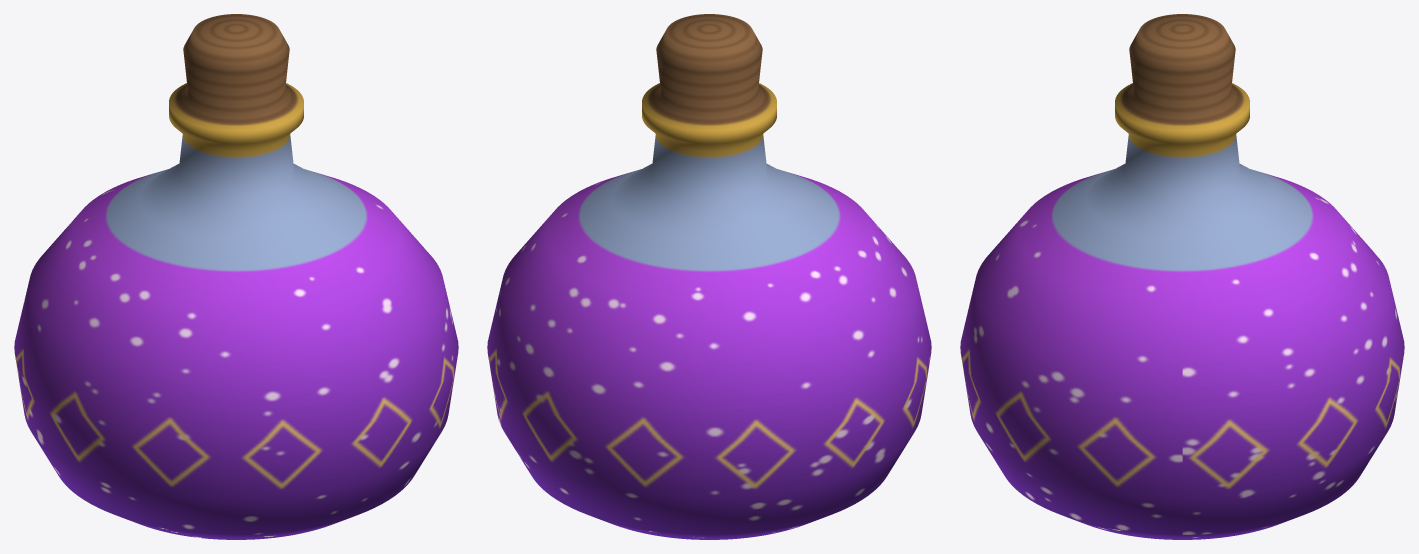
File: potion-bottle.glb
3 renders of one model, left to right at view 1: azimuth 30°, elevation 25°; view 2: azimuth 150°, elevation 25°; view 3: azimuth 270°, elevation 25°, orthographic.
Size of the model in its own units: 0.92 by 1.03 by 0.92.
1 material, 1 textured.
